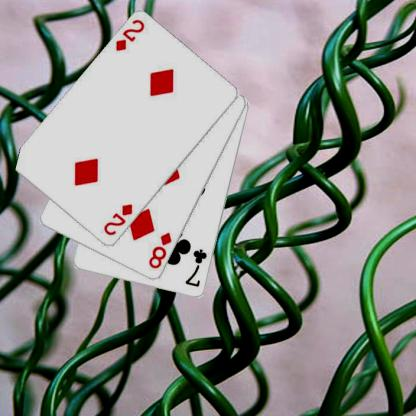2D: (101, 201, 134, 237), (113, 17, 146, 53)
7C: (182, 246, 209, 288)
8D: (146, 230, 173, 270)
